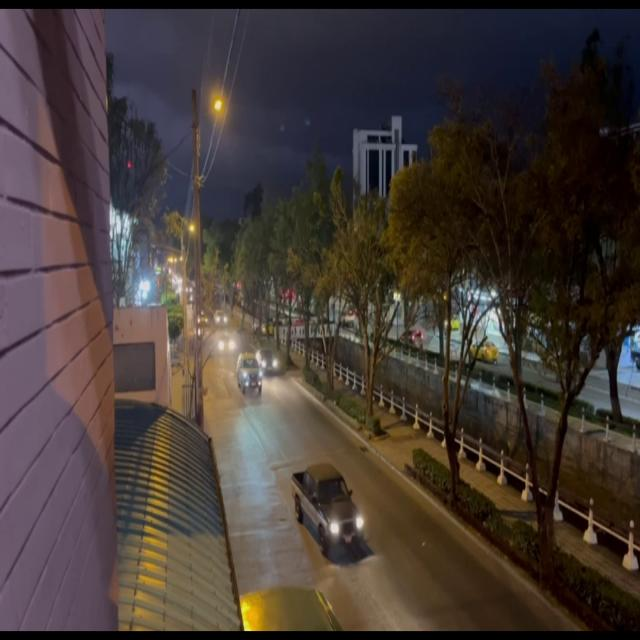CMT: (294, 472, 362, 555)
SUV: (238, 356, 263, 395)
